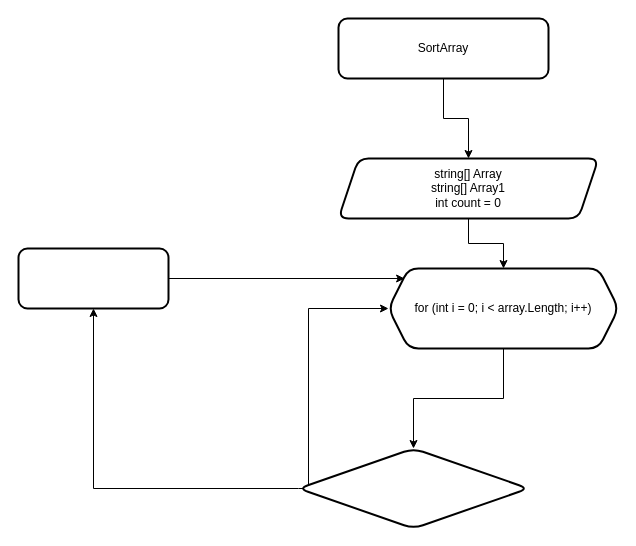
Some shapes in this 636 by 546 pixel diagram are drawn without their labels. Each missing label, with the centre of its shape:
"Array1[count] = Array[i]; count++;" goes at [93,278].
"if (Array[i].Length <= 3)" goes at [413,488].
